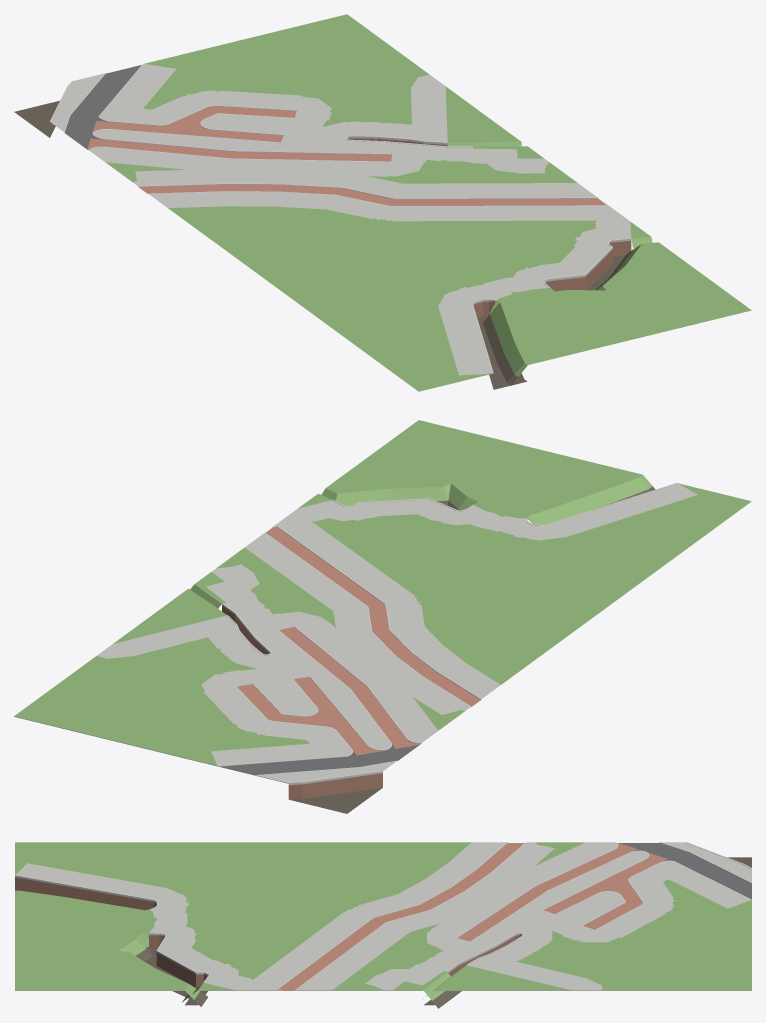
The model's file is ground_13_5.glb.
The picture shows the model from 3 angles, top to bottom: view 1: azimuth 30°, elevation 25°; view 2: azimuth 150°, elevation 25°; view 3: azimuth 270°, elevation 25°; orthographic projection. The views are drawn at different scales.
Visible parts, largest first — view 1: ground_13_5; view 2: ground_13_5; view 3: ground_13_5.
Boxes of the visible parts, <box> form: ground_13_5: <box>14,14,751,391</box>; ground_13_5: <box>14,420,751,813</box>; ground_13_5: <box>15,842,751,1008</box>.
Size of the model in its own units: 78.89 by 3.68 by 162.
